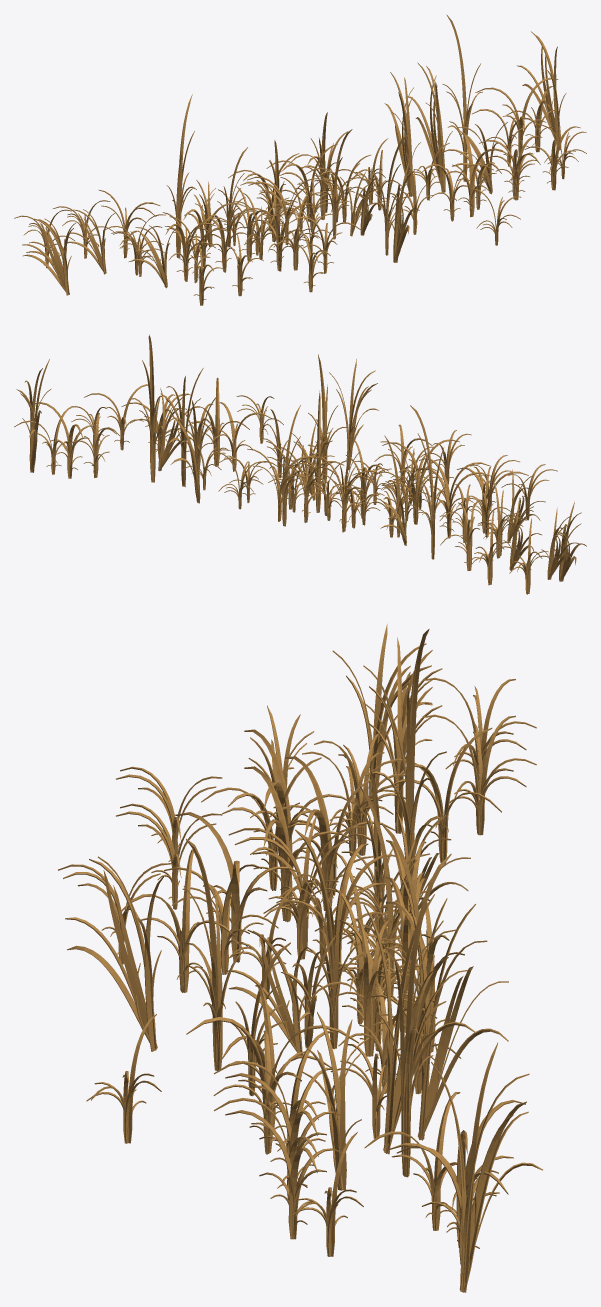
The model's file is grass3.FBX.
3 views of the same model, one above another, from view 1: azimuth 30°, elevation 25°; view 2: azimuth 150°, elevation 25°; view 3: azimuth 270°, elevation 25° (orthographic). The views are drawn at different scales.
Visible parts, largest first — view 1: Grass bundle101; view 2: Grass bundle101; view 3: Grass bundle101.
Part boxes in pixels (x1,y1,x2,y2): Grass bundle101: (14, 14, 586, 305); Grass bundle101: (14, 334, 586, 594); Grass bundle101: (58, 624, 542, 1292).
Bounding box in the file's own units: 34.62 × 9.98 × 13.23.
